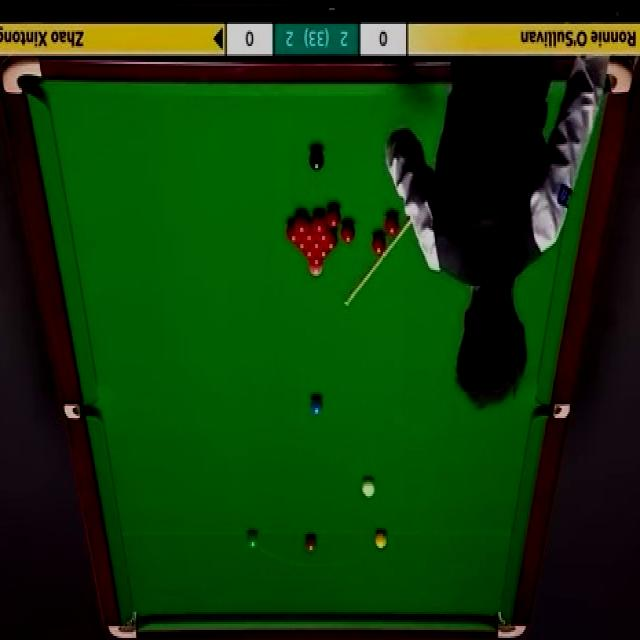black-ball: (309, 147, 325, 174)
blue-ball: (309, 394, 322, 416)
brown-ball: (305, 534, 317, 551)
green-ball: (247, 530, 258, 550)
pink-ball: (308, 264, 324, 280)
red-ball: (368, 232, 388, 258), (309, 212, 325, 236), (341, 220, 356, 245), (324, 205, 339, 228), (285, 224, 302, 244), (293, 213, 309, 234), (385, 215, 400, 237), (316, 228, 331, 243), (302, 225, 315, 242), (325, 233, 337, 249), (300, 248, 318, 258), (293, 240, 309, 251), (308, 258, 325, 268), (308, 240, 324, 250), (317, 249, 333, 258)
white-ball: (360, 478, 376, 502)
yellow-ball: (373, 530, 388, 551)
